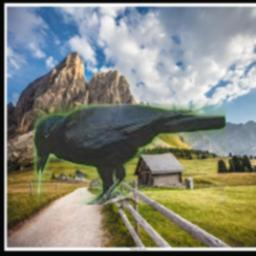Crow: (35, 104, 227, 205)
